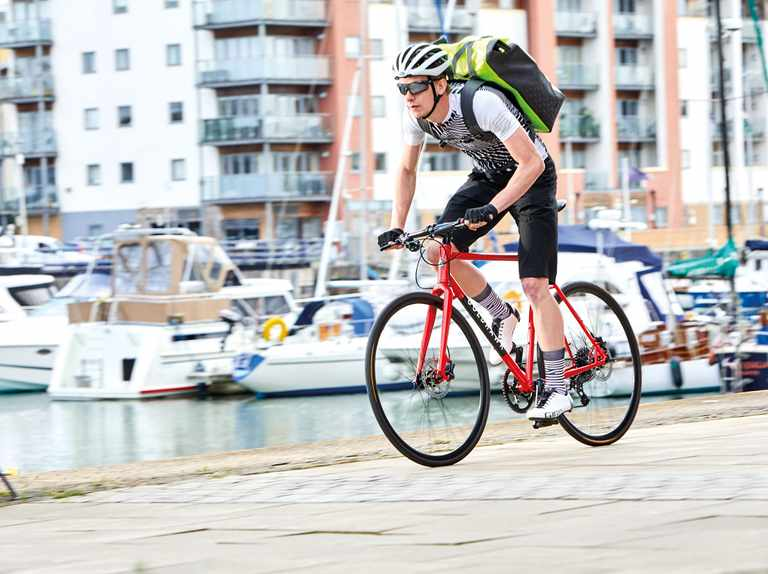helmet: (390, 41, 451, 119)
